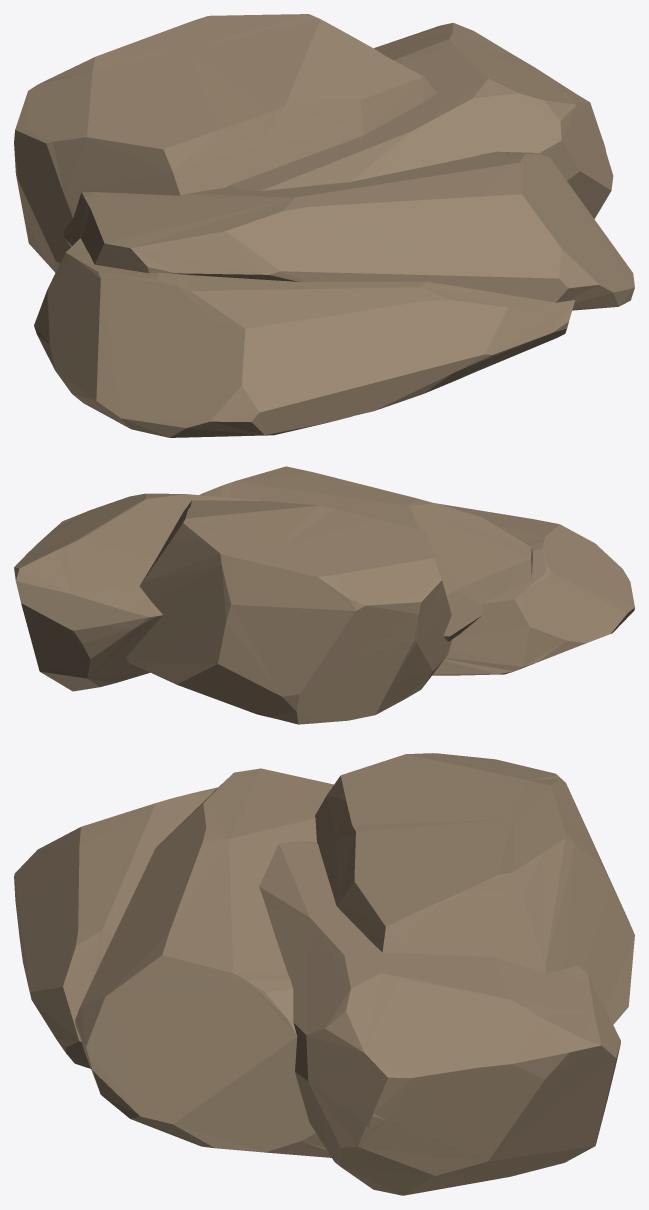
Rendered from jungle_SM_Env_Rock_Pile_03.gltf.
3 views of the same model, one above another, from view 1: azimuth 30°, elevation 25°; view 2: azimuth 150°, elevation 25°; view 3: azimuth 270°, elevation 25° (orthographic). The views are drawn at different scales.
Parts seen in each view (by area): view 1: SM_Env_Rock_Pile_03; view 2: SM_Env_Rock_Pile_03; view 3: SM_Env_Rock_Pile_03.
Boxes of the visible parts, x1,y1,x2,y2 form: SM_Env_Rock_Pile_03: (14, 14, 634, 437); SM_Env_Rock_Pile_03: (14, 466, 634, 724); SM_Env_Rock_Pile_03: (14, 753, 634, 1195).
Bounding box in the file's own units: 6.7 × 2.47 × 5.71.
1 material, 1 textured.
